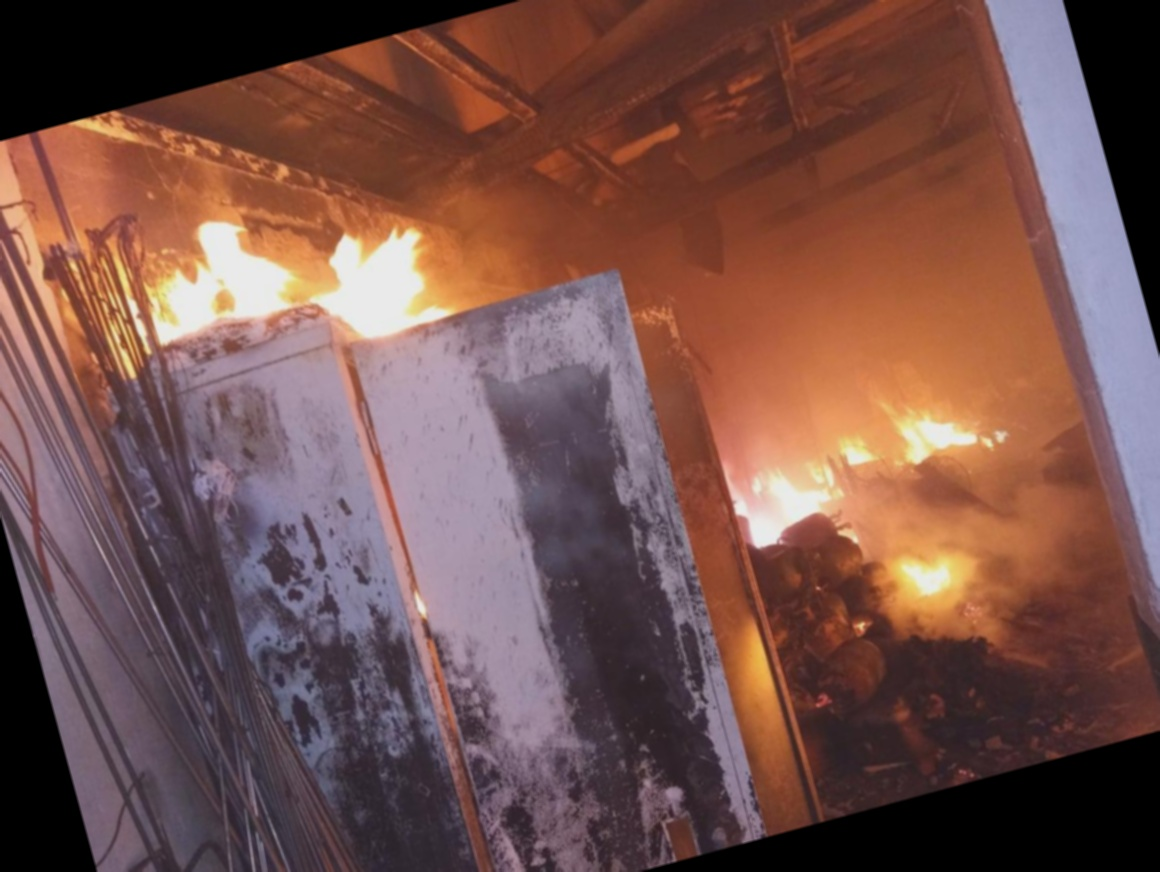fire: (688, 333, 1061, 685), (111, 179, 471, 425)
